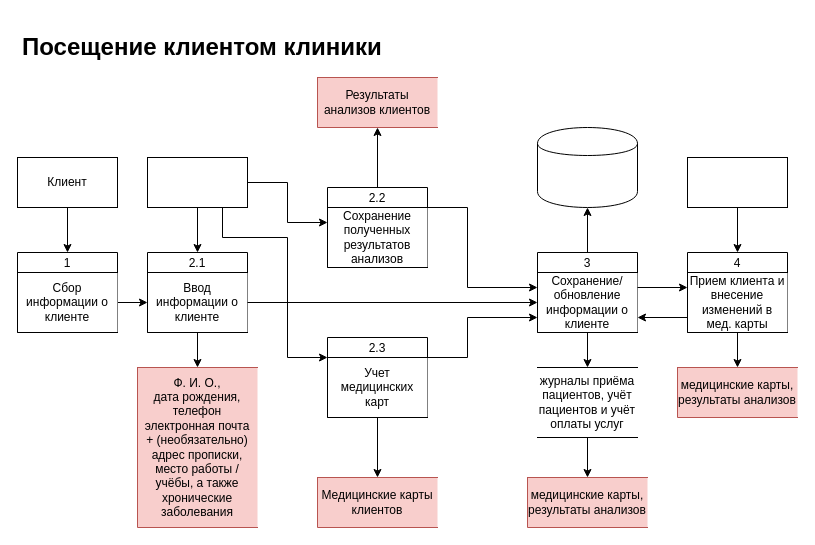
The diagram is 815 pixels wide and 545 high, and some of its shapes have lost their labels. The centre of each missing label's shape, as x and y in pixels:
"Медицинские специалисты" belongs at (737,182).
"Ресепшен" belongs at (197,182).
"Сетевое файловое хранилище" belongs at (587,167).
